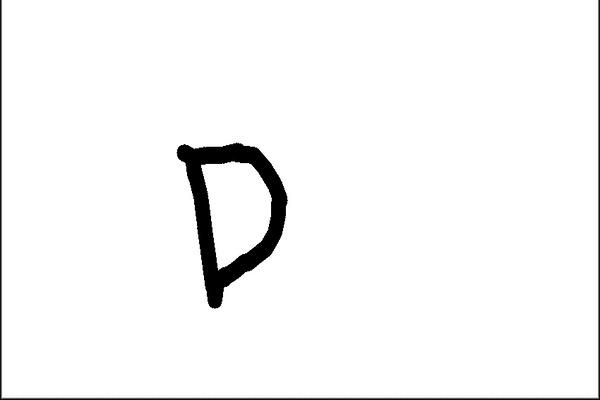D: (174, 137, 295, 313)
